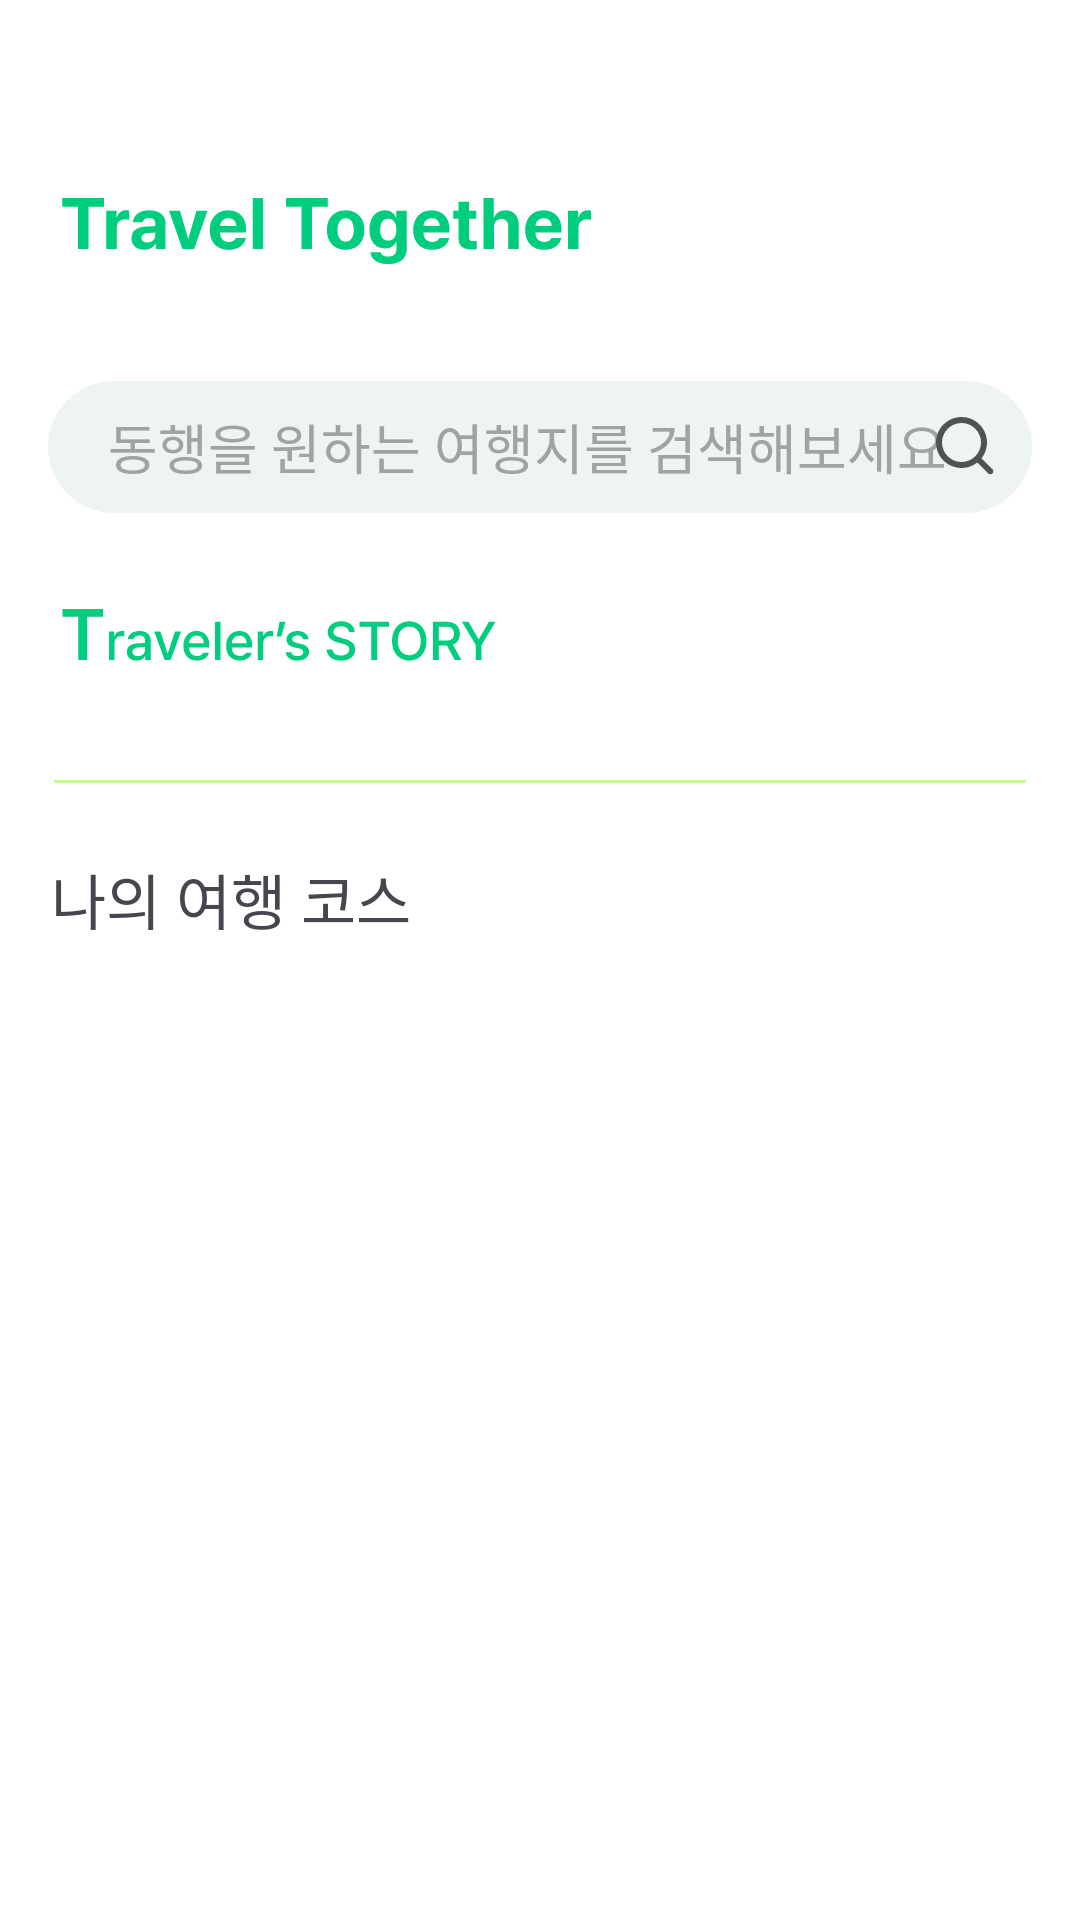

Point at icon controls on the screen. Image size 1080×1920, points as point (x, y).
search: point (965, 446)
